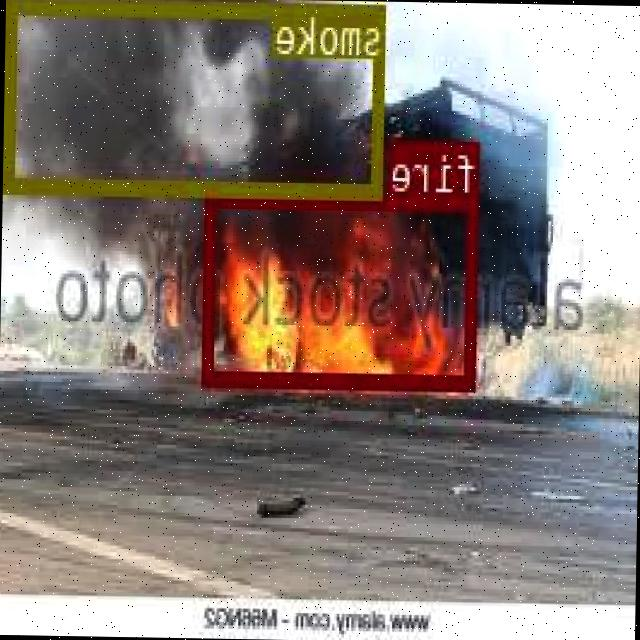fire: (204, 189, 480, 388)
smoke: (7, 0, 388, 194)
